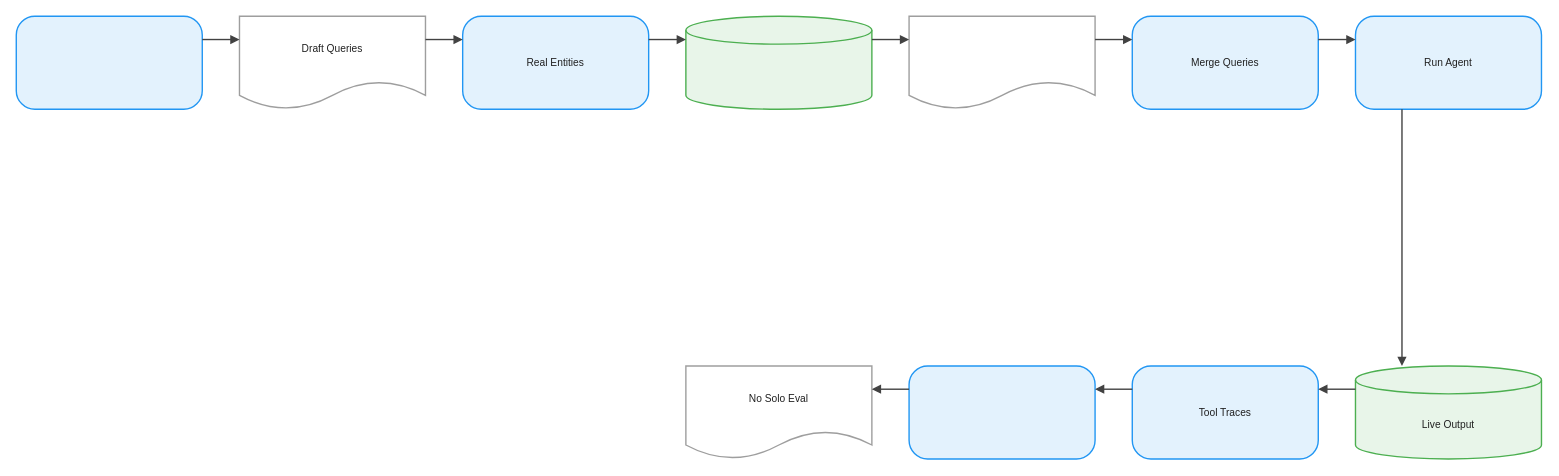
Image size: 1559x476. Some labels were removed from this diagram. The shapes that lost their labels are listed below. From the top down, each one's centre as x and y in pixels, then its label:
the point at 109,62: Two Classes
the point at 778,62: ASC Retrieve
the point at 1001,62: Ground QA
the point at 1001,412: Add to SFT
